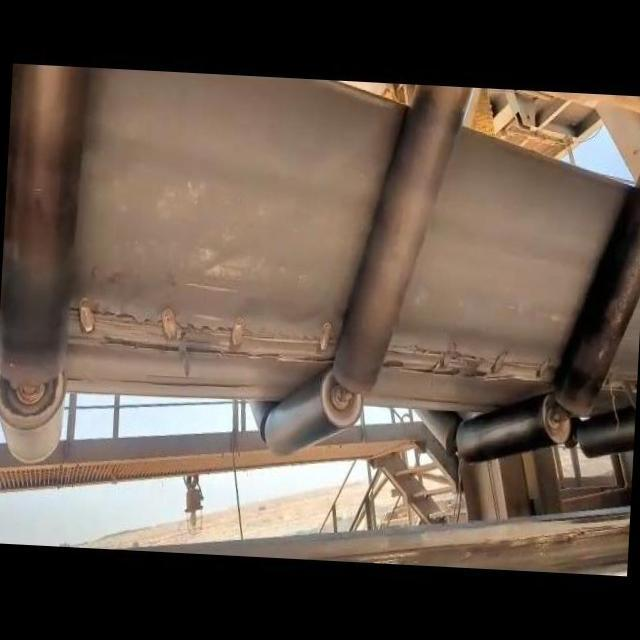Tear: (61, 285, 342, 372), (379, 336, 568, 400)
